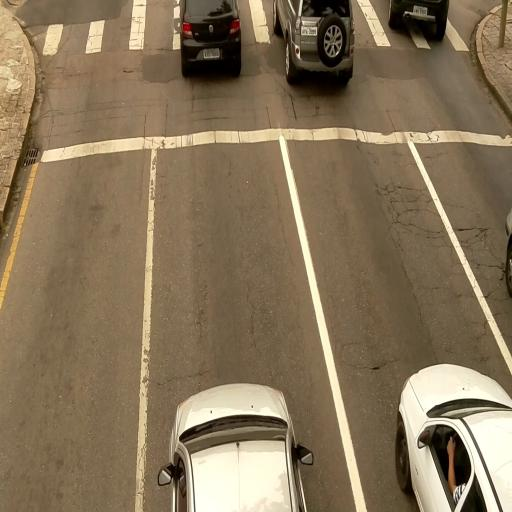car: (156, 382, 308, 510), (395, 365, 512, 511), (273, 3, 353, 85), (180, 3, 243, 79), (387, 1, 451, 41), (504, 200, 512, 298)
